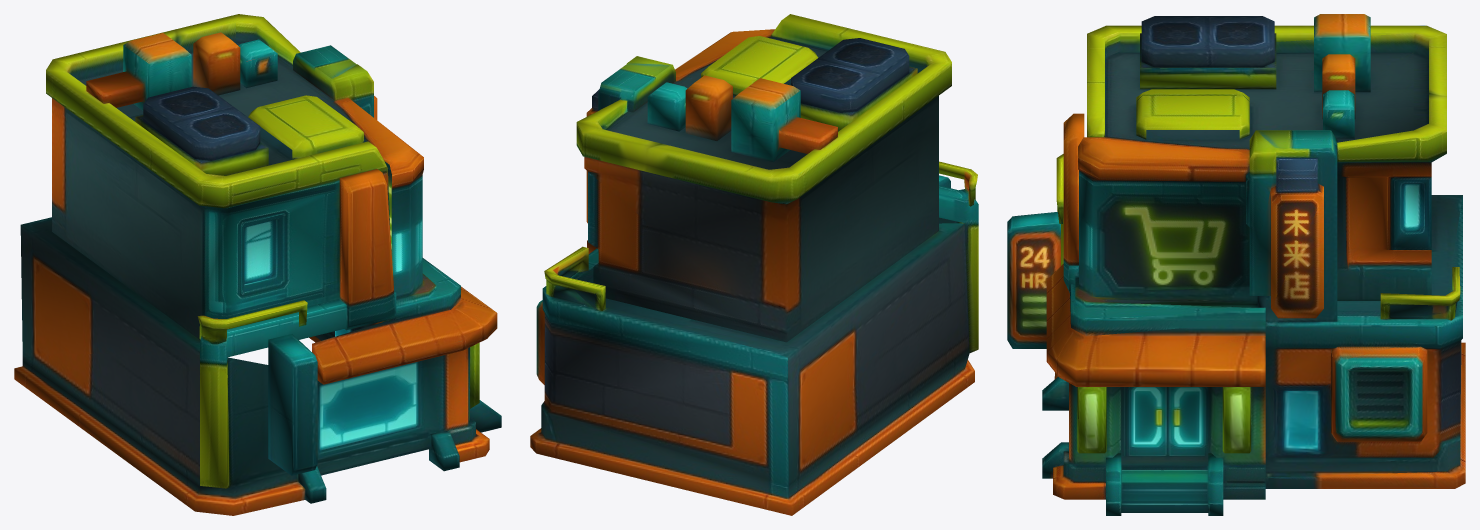
The model's file is building_market__01.glb.
The picture shows the model from 3 angles, left to right: view 1: azimuth 30°, elevation 25°; view 2: azimuth 150°, elevation 25°; view 3: azimuth 270°, elevation 25°; orthographic projection. The views are drawn at different scales.
Visible parts, largest first — view 1: tripo_node_171c230a-6d3e-4059-9bcf-1a1dacfaee1a; view 2: tripo_node_171c230a-6d3e-4059-9bcf-1a1dacfaee1a; view 3: tripo_node_171c230a-6d3e-4059-9bcf-1a1dacfaee1a.
Part boxes in pixels (bbox=[...]): tripo_node_171c230a-6d3e-4059-9bcf-1a1dacfaee1a: bbox=[14, 14, 501, 515]; tripo_node_171c230a-6d3e-4059-9bcf-1a1dacfaee1a: bbox=[530, 14, 978, 515]; tripo_node_171c230a-6d3e-4059-9bcf-1a1dacfaee1a: bbox=[1007, 14, 1465, 515].
Bounding box in the file's own units: 0.834 × 0.9004 × 0.998.
1 material, 1 textured.
